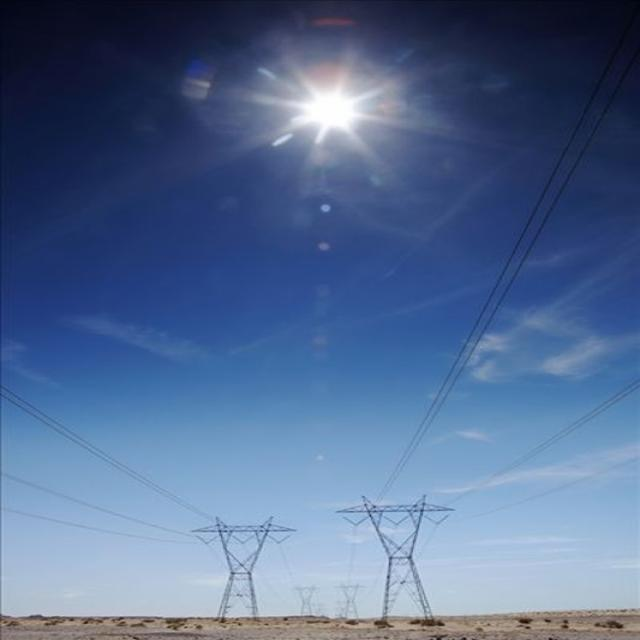non-critical vegetation: (328, 485, 468, 588), (190, 514, 300, 588)
